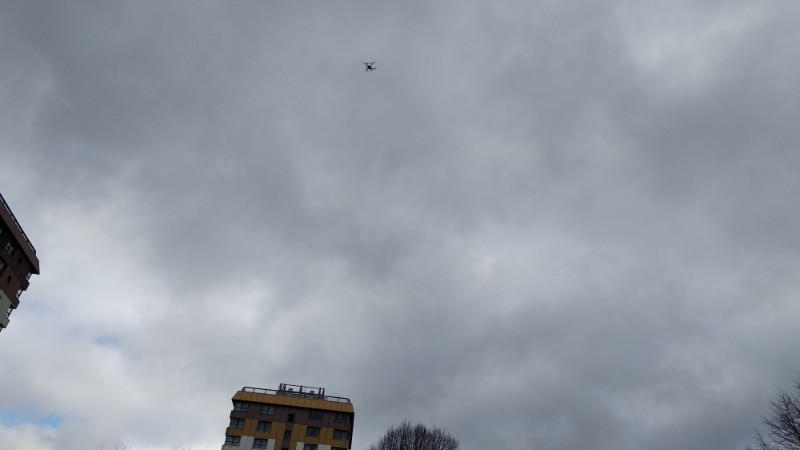drone: (363, 62, 376, 72)
